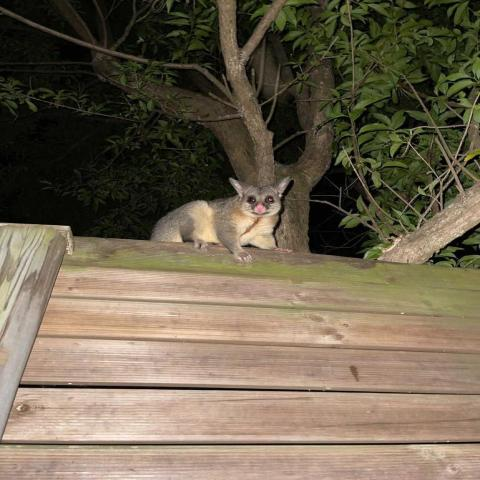small_animal: (149, 175, 295, 264)
